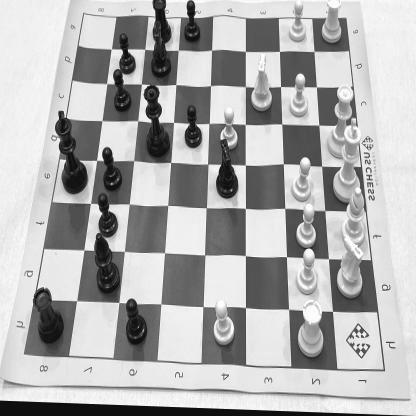black-king: (54, 108, 89, 200)
black-knight: (89, 233, 122, 298)
black-pawn: (124, 297, 152, 348), (96, 192, 121, 242), (100, 146, 124, 196), (182, 102, 203, 151), (110, 70, 132, 116), (182, 0, 203, 46), (118, 33, 139, 78)
black-queen: (142, 83, 172, 165)
black-rook: (32, 286, 66, 348), (150, 0, 173, 47)
white-bishop: (340, 184, 370, 248)
white-king: (330, 116, 364, 206)
white-knight: (336, 234, 368, 300), (214, 140, 242, 202), (248, 51, 276, 113), (149, 21, 173, 80)
white-pawn: (212, 296, 237, 350), (294, 203, 319, 250), (296, 248, 320, 296), (291, 158, 315, 204), (288, 72, 310, 121), (219, 106, 240, 152), (286, 0, 308, 43)
white-queen: (326, 82, 356, 160)
white-rook: (296, 298, 327, 362), (320, 0, 345, 45)
